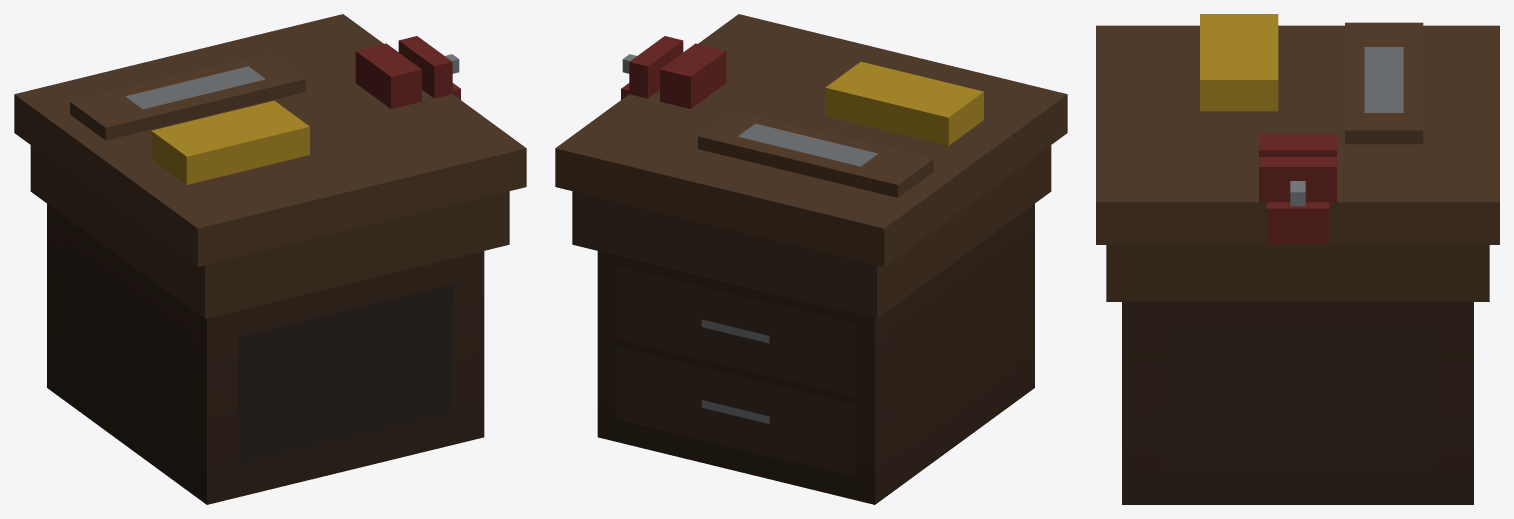
Rendered from table.workbench.dark.glb.
3 views of the same model, side by side, from view 1: azimuth 30°, elevation 25°; view 2: azimuth 150°, elevation 25°; view 3: azimuth 270°, elevation 25° (orthographic). The views are drawn at different scales.
Visible parts, largest first — view 1: table_workbench_dark; view 2: table_workbench_dark; view 3: table_workbench_dark.
Part boxes in pixels (<box>): table_workbench_dark: <box>14,14,526,504</box>; table_workbench_dark: <box>555,14,1067,504</box>; table_workbench_dark: <box>1096,14,1499,504</box>.
Size of what is drawn, in the model's own units: 1.14 by 1 by 1.03.
